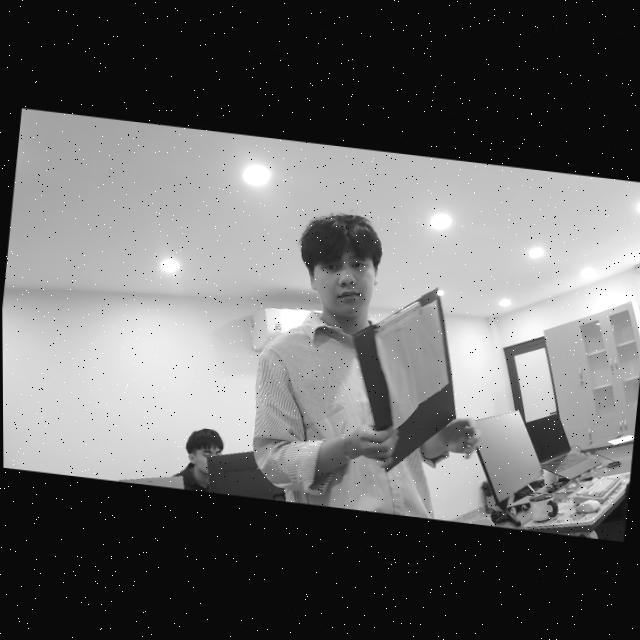face: (306, 233, 376, 326)
